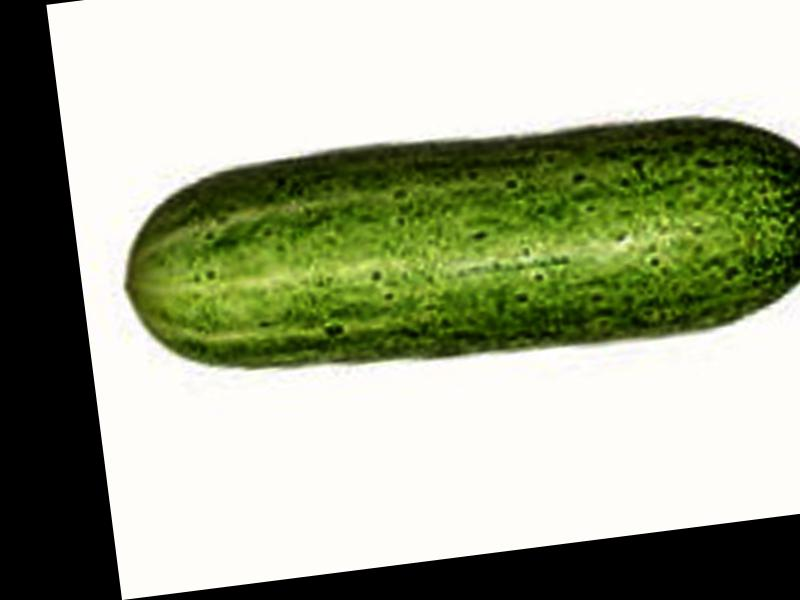Cucumber: (112, 94, 800, 400)
